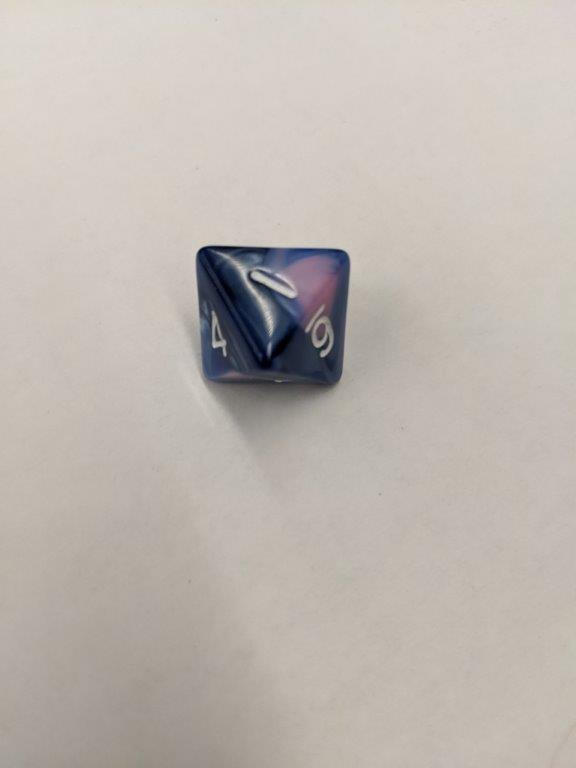d8-1: (197, 244, 352, 389)
